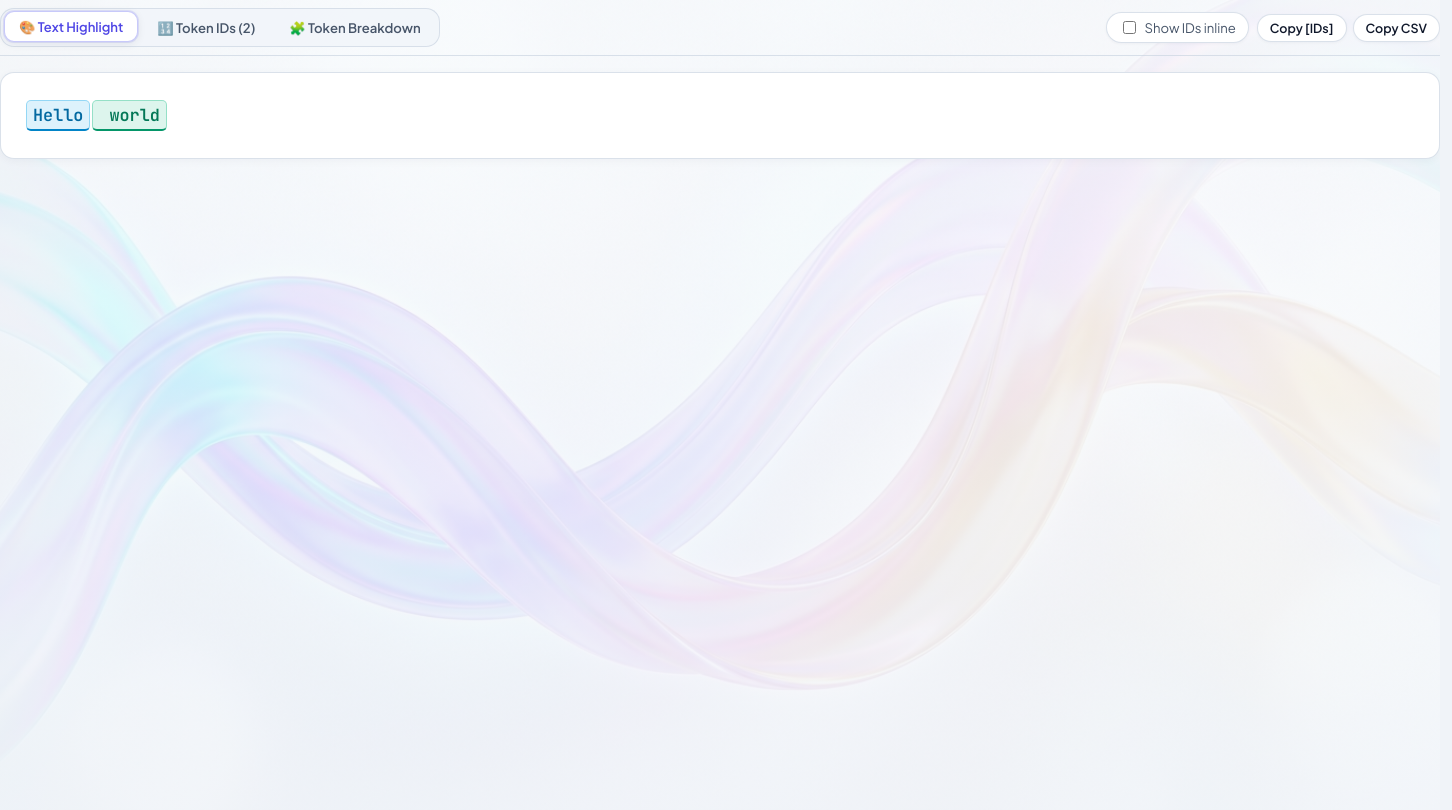
Scenario: TokenVisualization › switches to Token IDs view and renders the raw token IDs array
Click the tab "🔢 Token IDs (2)": (206, 28) [142,12,270,43]
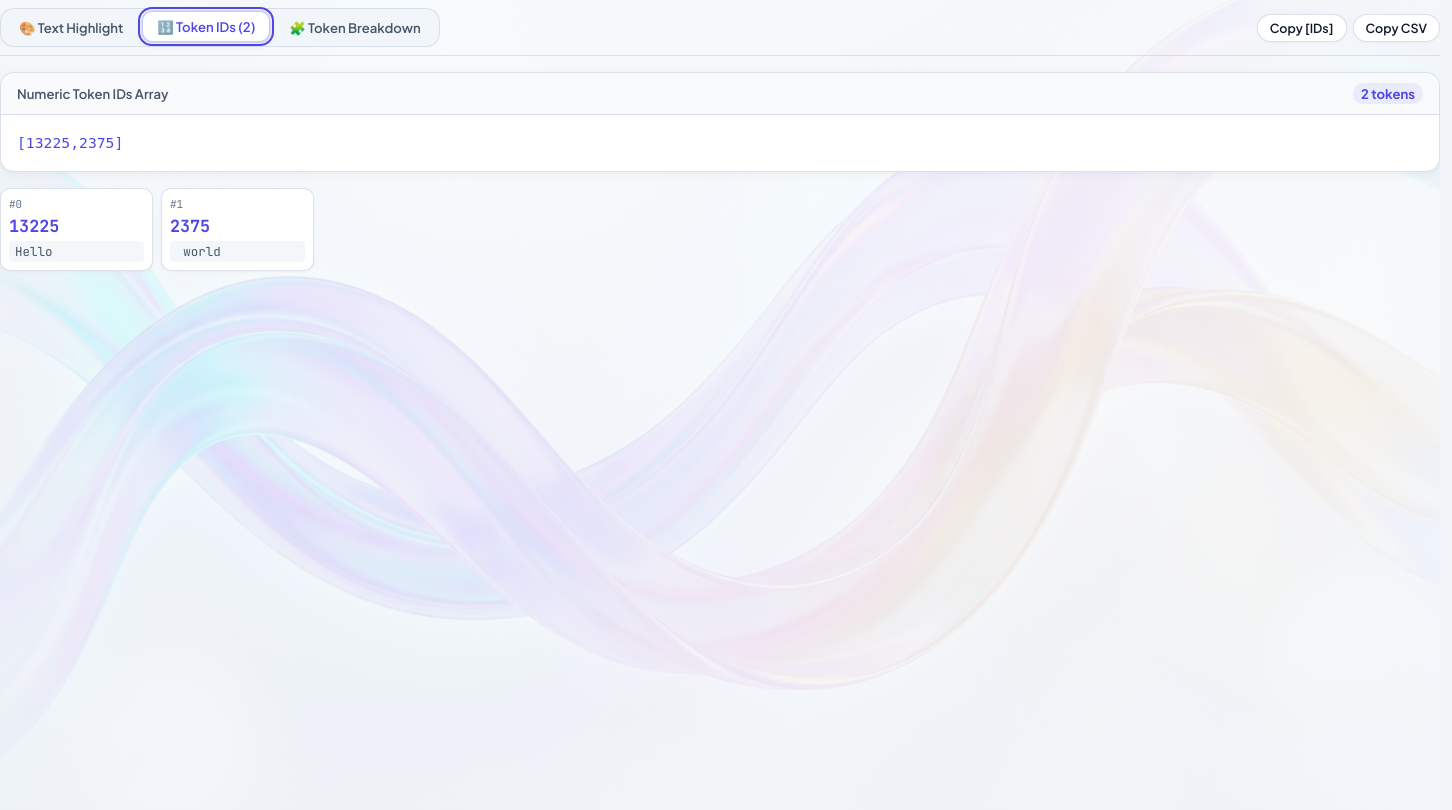
Check: the text "[13225,2375]" is shown, box [17,134,123,151]
Check: the text "13225" is shown, box [9,214,59,236]
Check: the text "2375" is shown, box [170,214,210,236]
